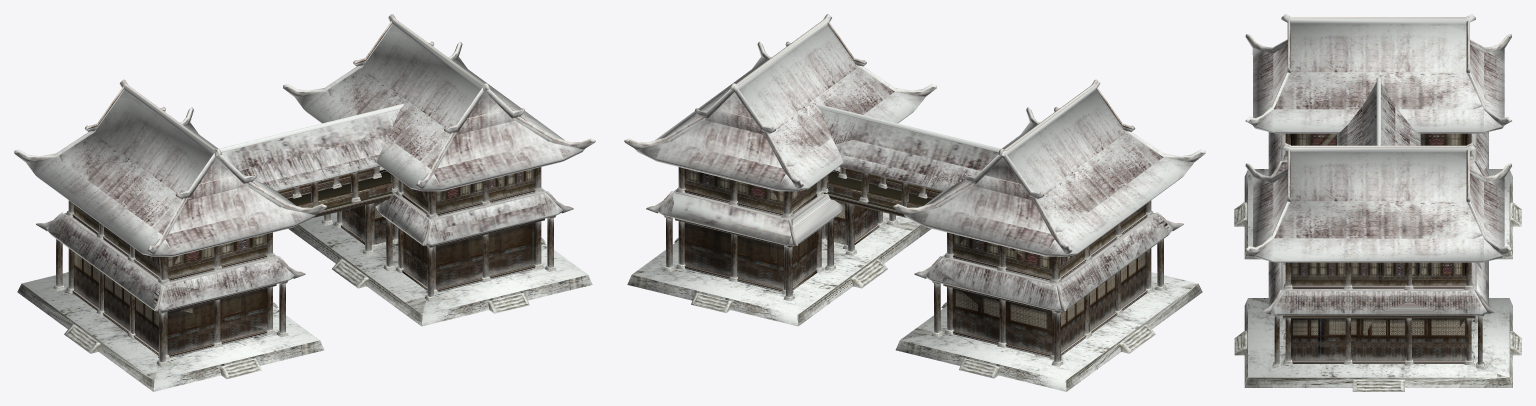
File: snow-009-hotel_lod_01.fbx
3 renders of one model, left to right at view 1: azimuth 30°, elevation 25°; view 2: azimuth 150°, elevation 25°; view 3: azimuth 270°, elevation 25°, orthographic.
Visible parts, largest first — view 1: snow-009-hotel01, snow-009-hotel02, snow-009-hotel03; view 2: snow-009-hotel01, snow-009-hotel02, snow-009-hotel03; view 3: snow-009-hotel01, snow-009-hotel02, snow-009-hotel03.
Part boxes in pixels (left/top/right/bottom): snow-009-hotel01: left=14, top=14, right=595, bottom=256; snow-009-hotel02: left=36, top=103, right=573, bottom=354; snow-009-hotel03: left=17, top=167, right=592, bottom=391; snow-009-hotel01: left=624, top=14, right=1205, bottom=256; snow-009-hotel02: left=646, top=103, right=1183, bottom=354; snow-009-hotel03: left=627, top=167, right=1202, bottom=391; snow-009-hotel01: left=1245, top=14, right=1511, bottom=262; snow-009-hotel02: left=1261, top=76, right=1495, bottom=360; snow-009-hotel03: left=1234, top=133, right=1521, bottom=391.
Bounding box in the file's own units: 35.89 × 15.6 × 19.9.
